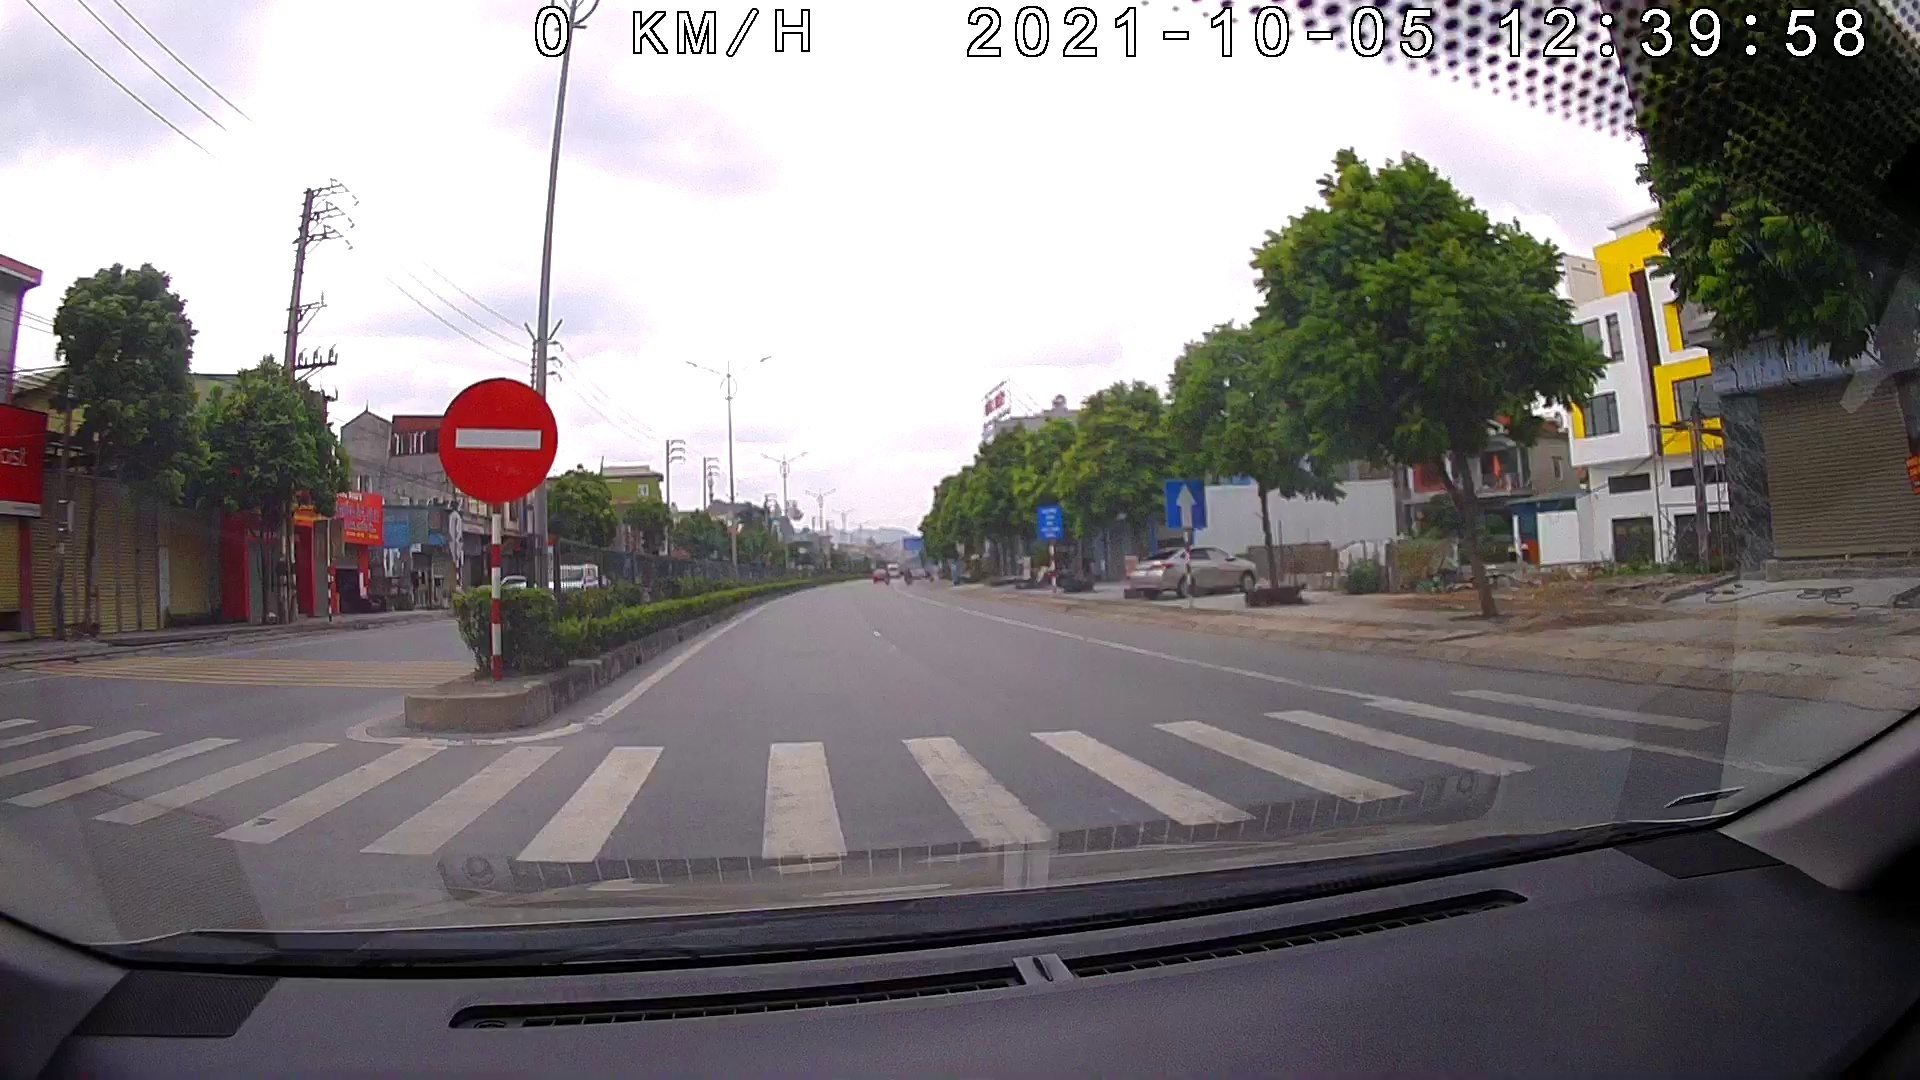Bien khac: (1160, 476, 1207, 534)
Cam di nguoc chieu: (440, 376, 560, 501)
